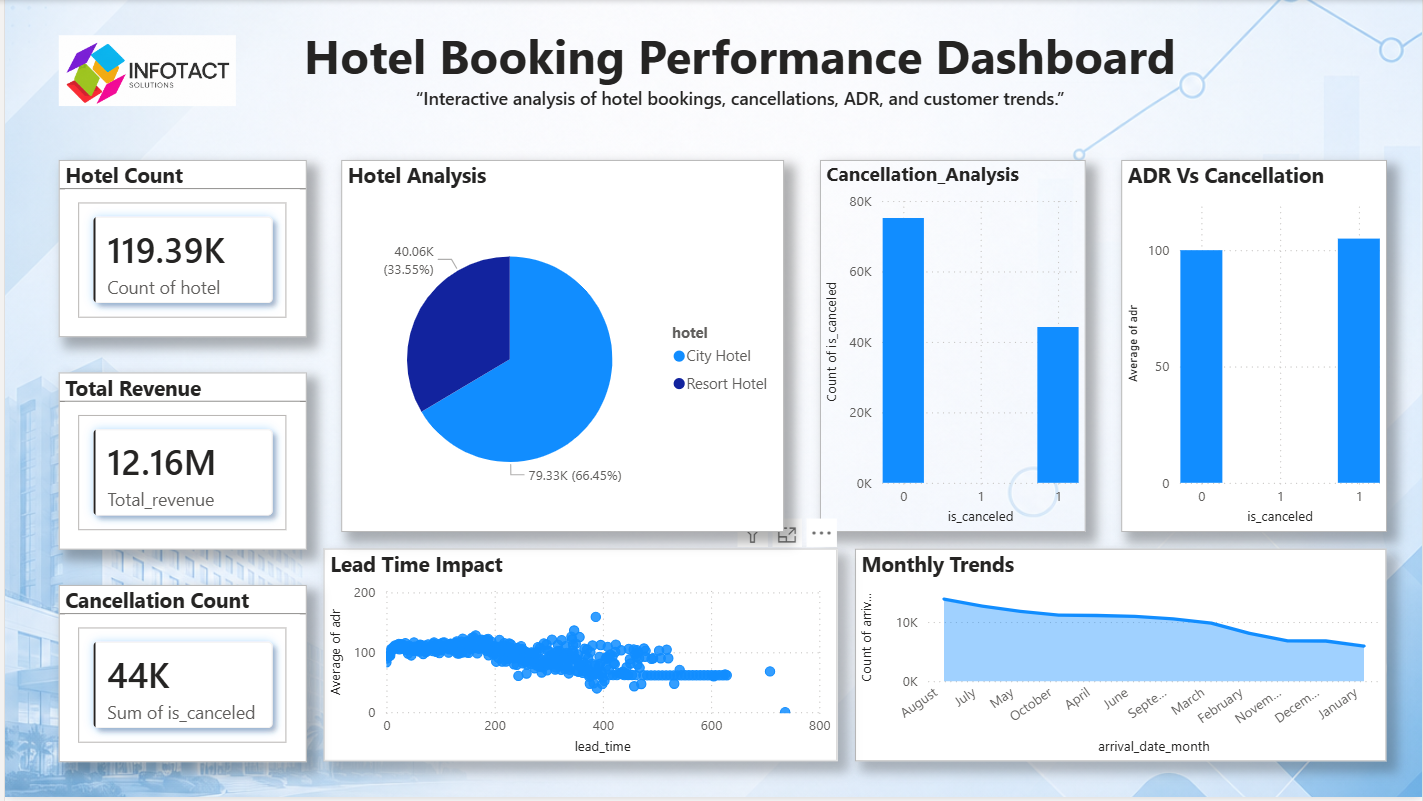

The page's visual inventory and layout, read from the dashboard file:
{"tool":"powerbi","page":{"name":"Page 1","canvas":[1280,720],"ordinal":0},"visuals":[{"type":"clusteredColumnChart","title":"Cancellation_Analysis","fields":{"Category":["hotel_booking_analysis.is_canceled"],"Y":["CountNonNull(hotel_booking_analysis.is_canceled)"]},"box":[736,144,240,336],"z":0},{"type":"clusteredColumnChart","title":"ADR Vs Cancellation","fields":{"Category":["hotel_booking_analysis.is_canceled"],"Y":["Avg(hotel_booking_analysis.adr)"]},"box":[1008,144,240,336],"z":1000},{"type":"lineChart","title":"Monthly Trends","fields":{"Y":["CountNonNull(hotel_booking_analysis.arrival_date_month)"],"Category":["hotel_booking_analysis.arrival_date_month"]},"box":[768,496,480,192],"z":2000},{"type":"scatterChart","title":"Lead Time Impact","fields":{"X":["hotel_booking_analysis.lead_time"],"Y":["Avg(hotel_booking_analysis.adr)"]},"box":[288,496,464,192],"z":3000},{"type":"pieChart","title":"Hotel Analysis","fields":{"Category":["hotel_booking_analysis.hotel"],"Y":["CountNonNull(hotel_booking_analysis.hotel)"]},"box":[304,144,400,336],"z":4000},{"type":"cardVisual","title":"Hotel Count","fields":{"Data":["CountNonNull(hotel_booking_analysis.hotel)"]},"box":[48,144,224,160],"z":5000},{"type":"cardVisual","title":"Cancellation Count","fields":{"Data":["Sum(hotel_booking_analysis.is_canceled)"]},"box":[48,528,224,160],"z":6000},{"type":"textbox","box":[96,16,1136,96],"z":7000},{"type":"image","box":[48,16,160,96],"z":8000},{"type":"cardVisual","title":"Total Revenue","fields":{"Data":["hotel_booking_analysis.Total_revenue"]},"box":[48,336,224,160],"z":9001}]}

Visuals, with their boxes in screenshot pixels (x1, y1, x2, y2), scaled from the page's 1280x720 canvas onto the 1423x801 screenshot:
"Cancellation_Analysis" clusteredColumnChart: [818, 160, 1085, 534]
"ADR Vs Cancellation" clusteredColumnChart: [1121, 160, 1387, 534]
"Monthly Trends" lineChart: [854, 552, 1387, 765]
"Lead Time Impact" scatterChart: [320, 552, 836, 765]
"Hotel Analysis" pieChart: [338, 160, 783, 534]
"Hotel Count" cardVisual: [53, 160, 302, 338]
"Cancellation Count" cardVisual: [53, 587, 302, 765]
textbox: [107, 18, 1370, 125]
image: [53, 18, 231, 125]
"Total Revenue" cardVisual: [53, 374, 302, 552]
